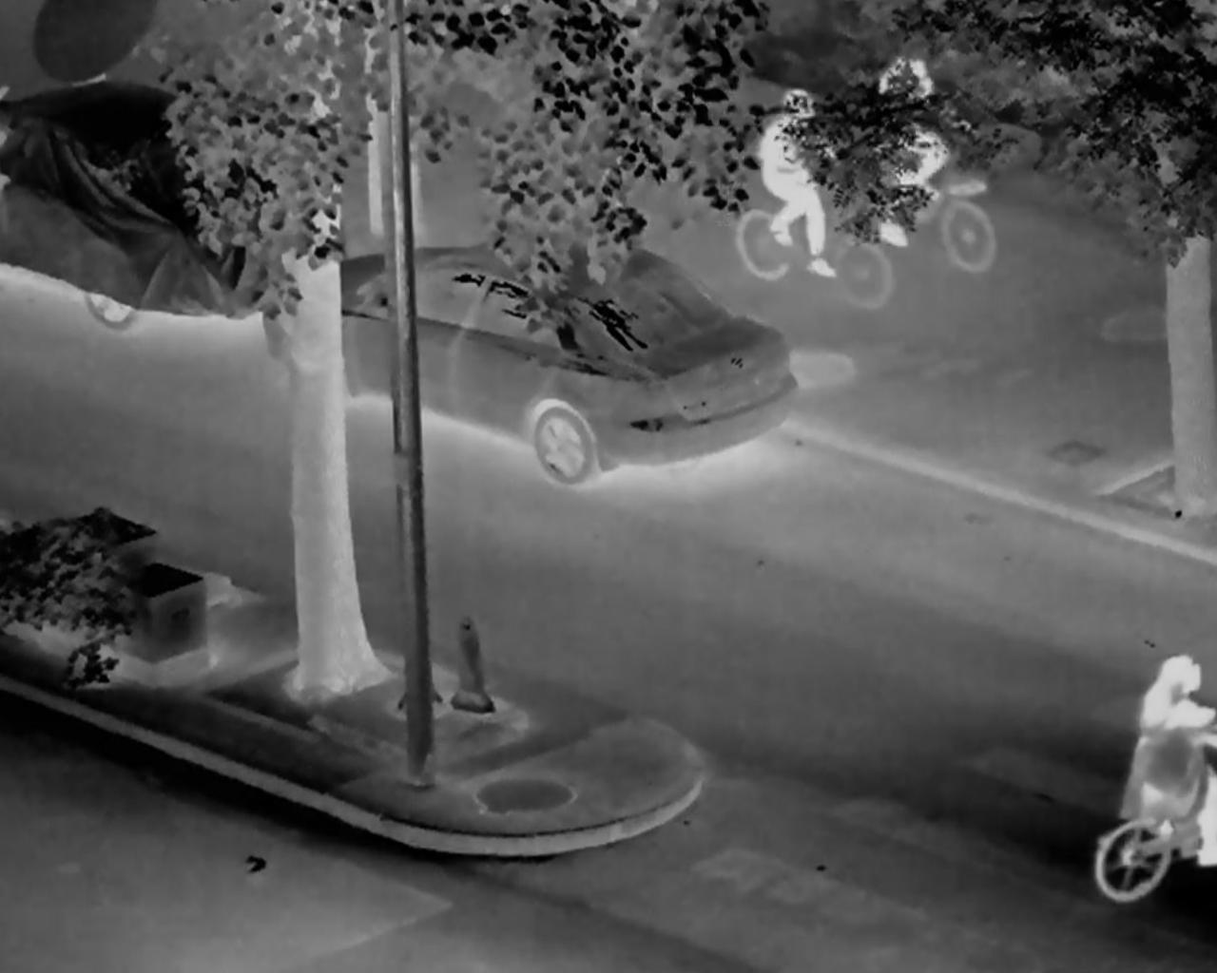person: (855, 43, 961, 243), (1129, 651, 1212, 865), (754, 91, 840, 274)
